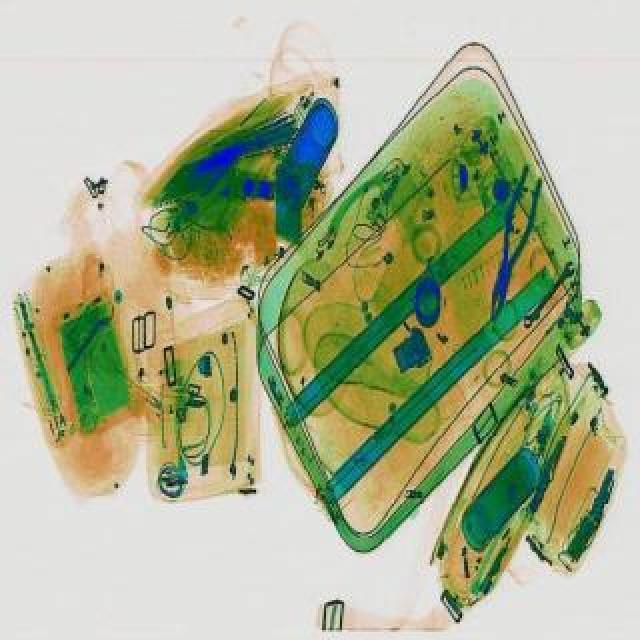wrench: (480, 162, 548, 322)
